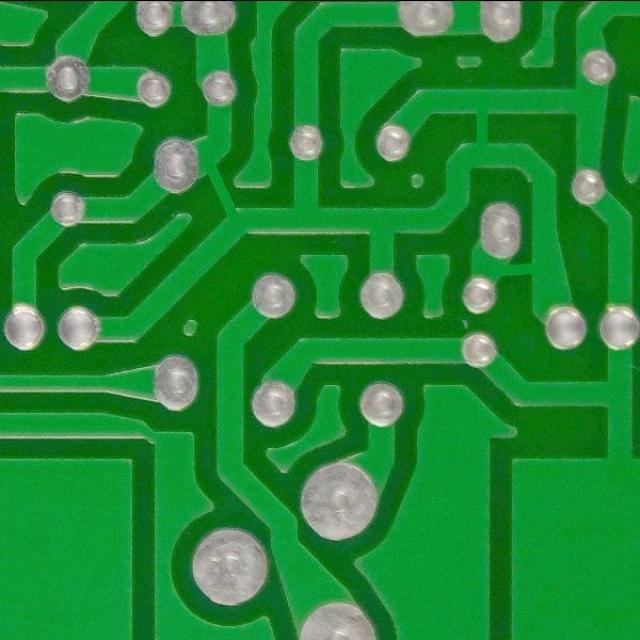short: (174, 126, 254, 253), (450, 84, 515, 168), (473, 238, 552, 297)
